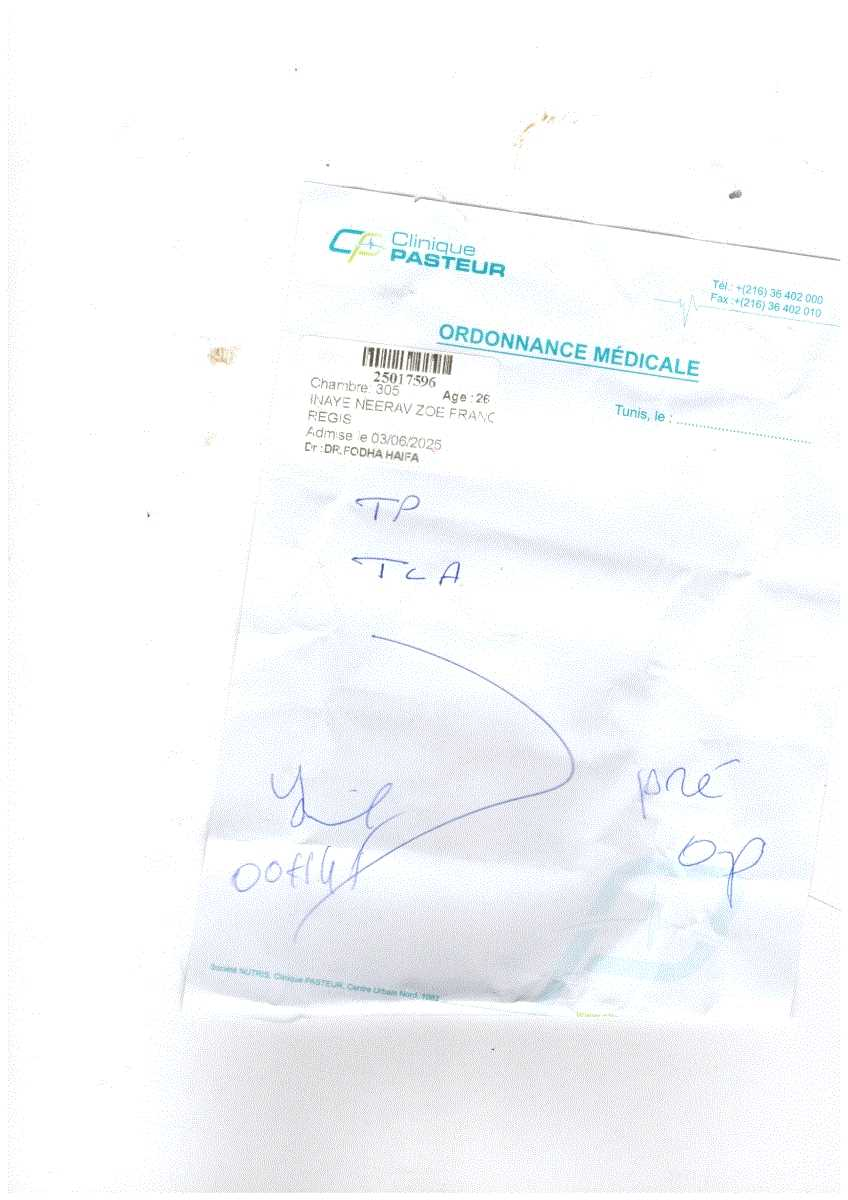zone_analyses: (297, 465, 837, 910)
zone_date: (372, 429, 451, 442)
zone_patient: (308, 390, 496, 421)
zone_prescripteur: (213, 947, 637, 979), (701, 258, 841, 327), (309, 440, 420, 459)
